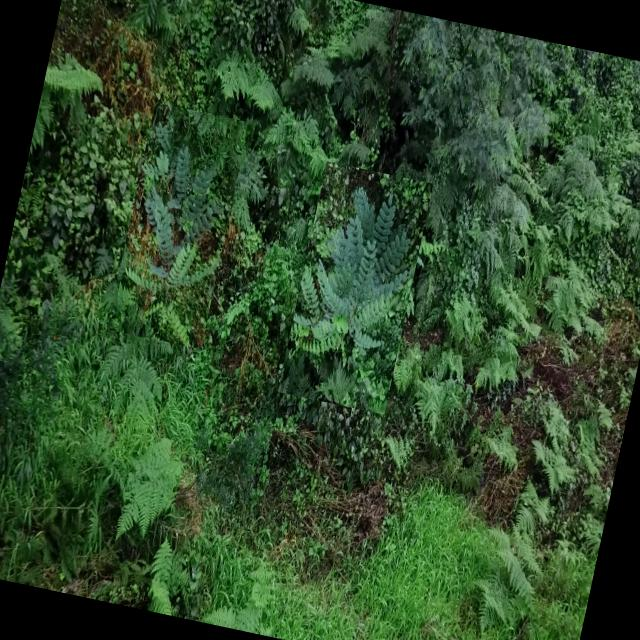Mysore-Thorn-Weed: (278, 161, 432, 414), (106, 102, 248, 349)
